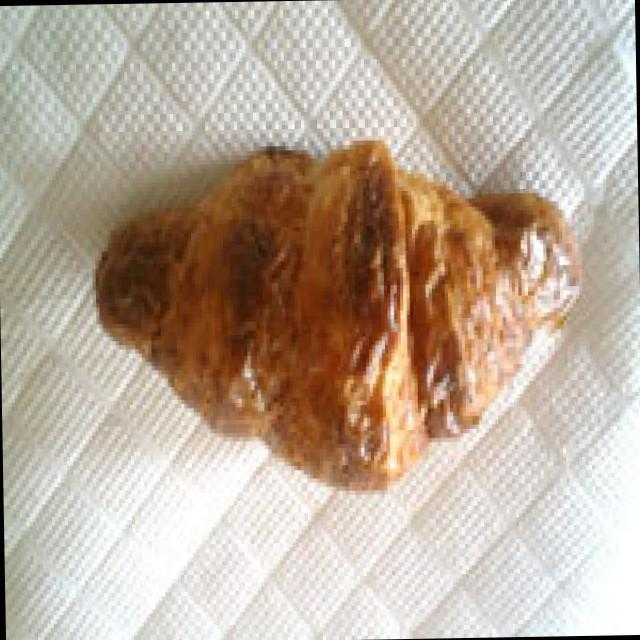Croissant: (88, 137, 594, 532)
